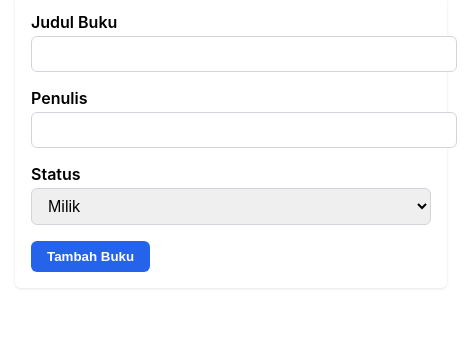
Test: BookForm › shows validation errors on empty submit
Step 1. Click the button "Tambah Buku" → {"x": 91, "y": 256}, box [31,241,150,272]
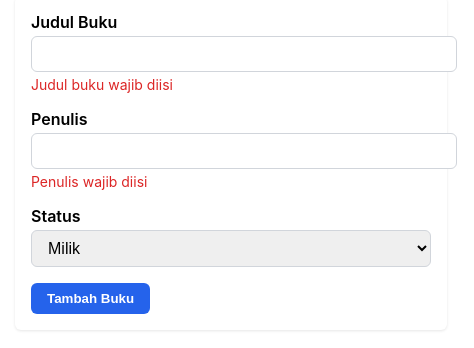
Now the text "Judul buku wajib diisi" is shown, box [31,76,173,93]
Now the text "Penulis wajib diisi" is shown, box [31,173,147,190]
